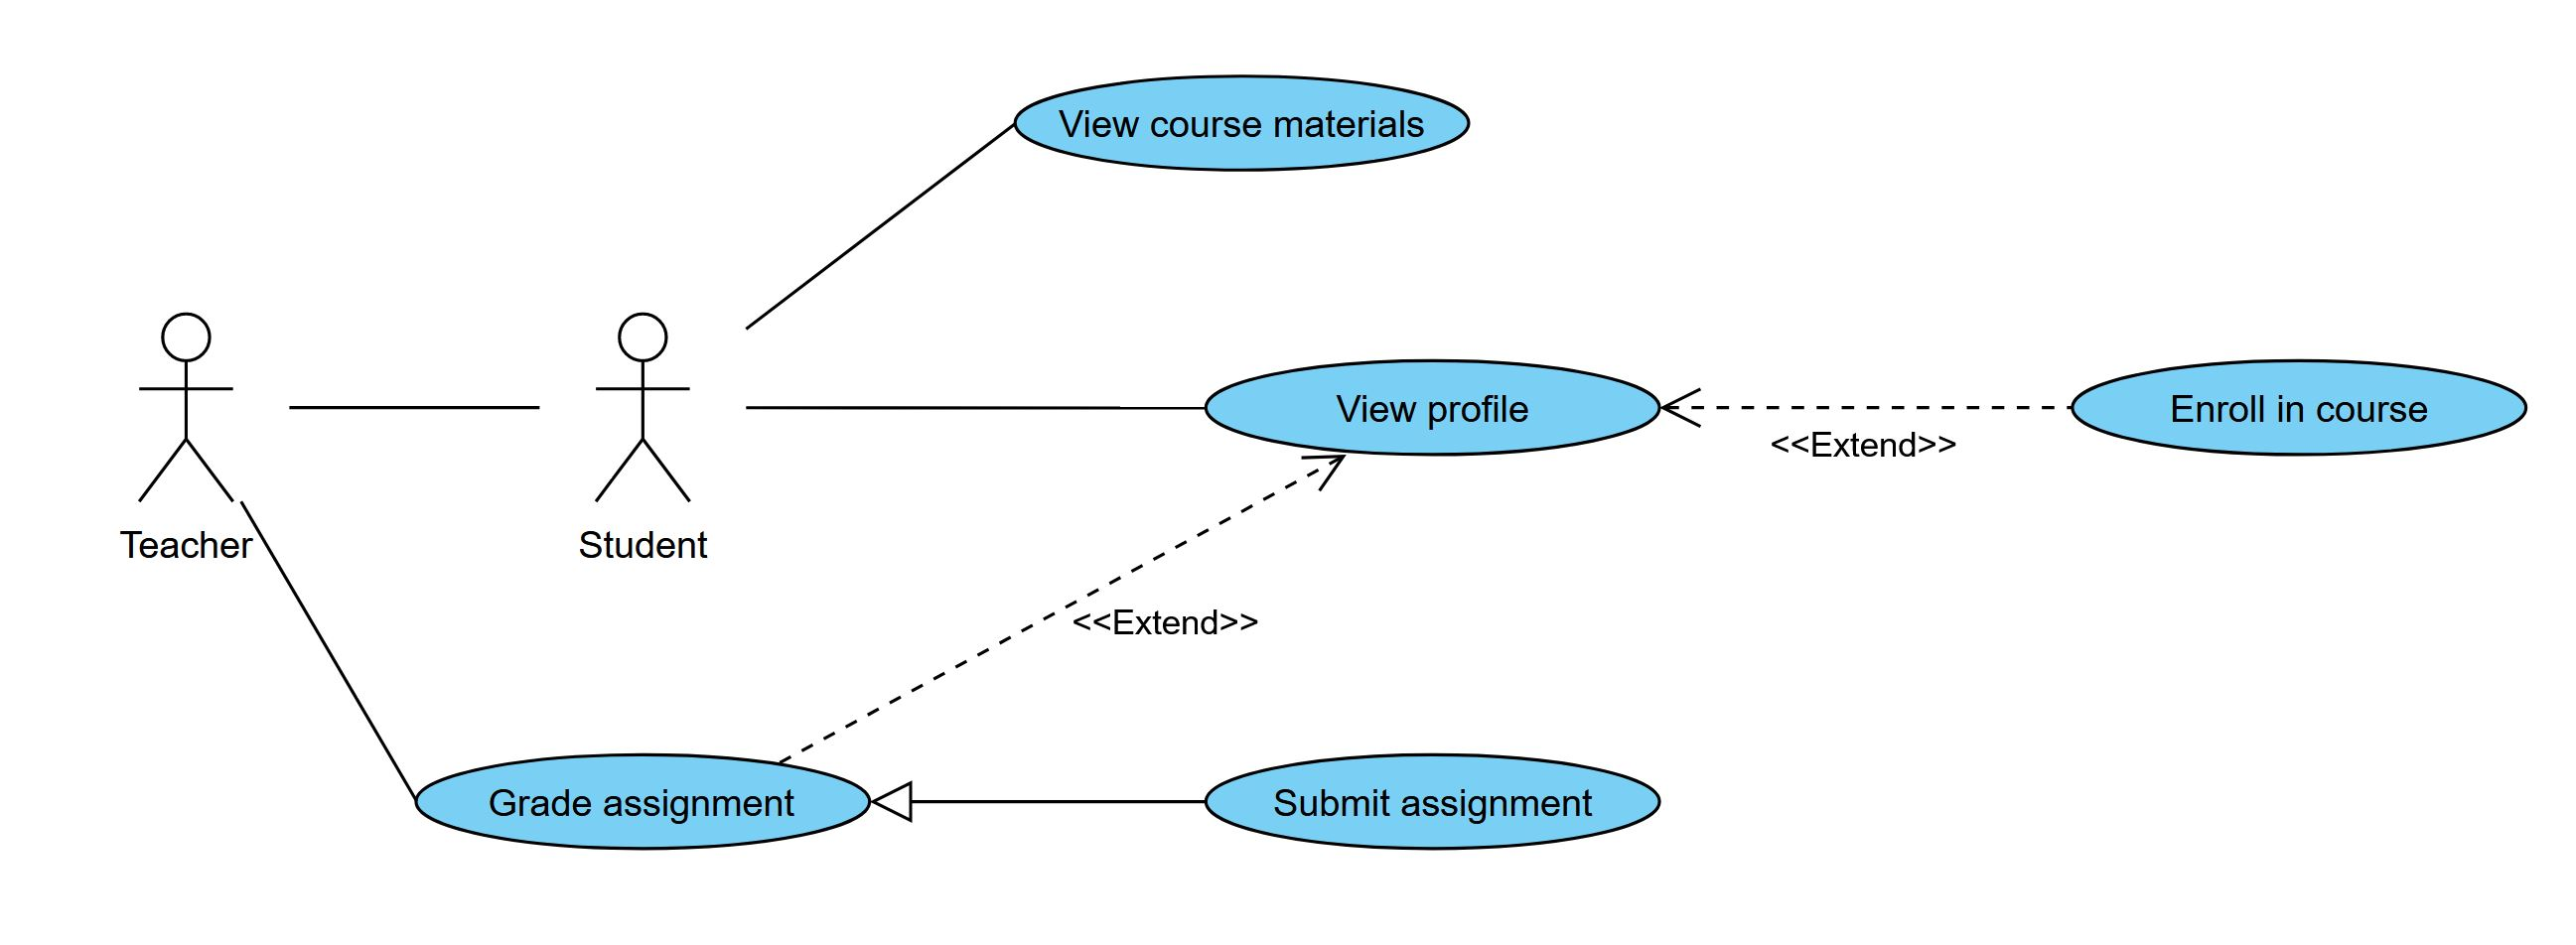actor: (585, 306, 710, 513), (131, 306, 237, 509)
association: (785, 450, 1347, 763), (749, 120, 1015, 330), (235, 498, 414, 804), (743, 375, 1199, 432), (1661, 380, 2070, 431), (871, 776, 1206, 823), (287, 378, 536, 427)
text: (1058, 100, 1437, 146), (483, 781, 807, 830), (1263, 779, 1610, 825), (2147, 383, 2445, 436), (1759, 416, 1965, 478), (1065, 605, 1275, 649), (103, 519, 260, 575), (1329, 383, 1521, 427), (567, 523, 721, 570)
use_case: (414, 749, 876, 856), (1010, 71, 1470, 176), (1206, 355, 1663, 460), (1206, 751, 1661, 856), (2073, 355, 2527, 460)
